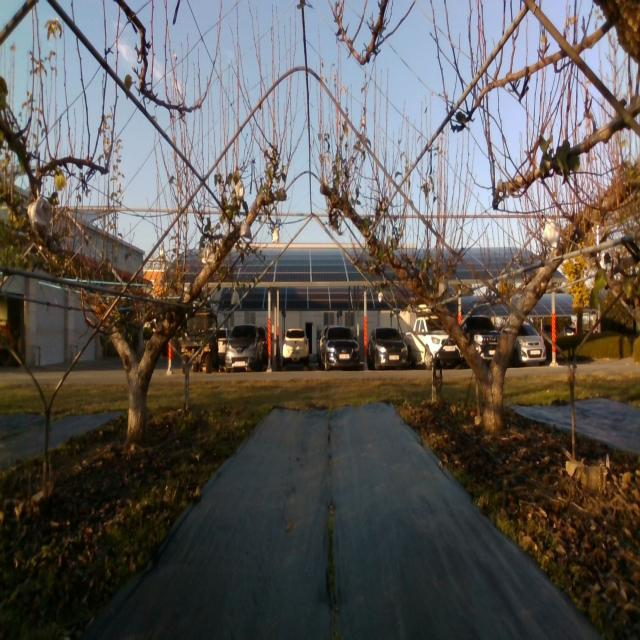pearbags: (28, 195, 51, 245), (544, 217, 560, 248), (204, 243, 215, 264), (241, 219, 252, 239), (235, 179, 245, 199)
